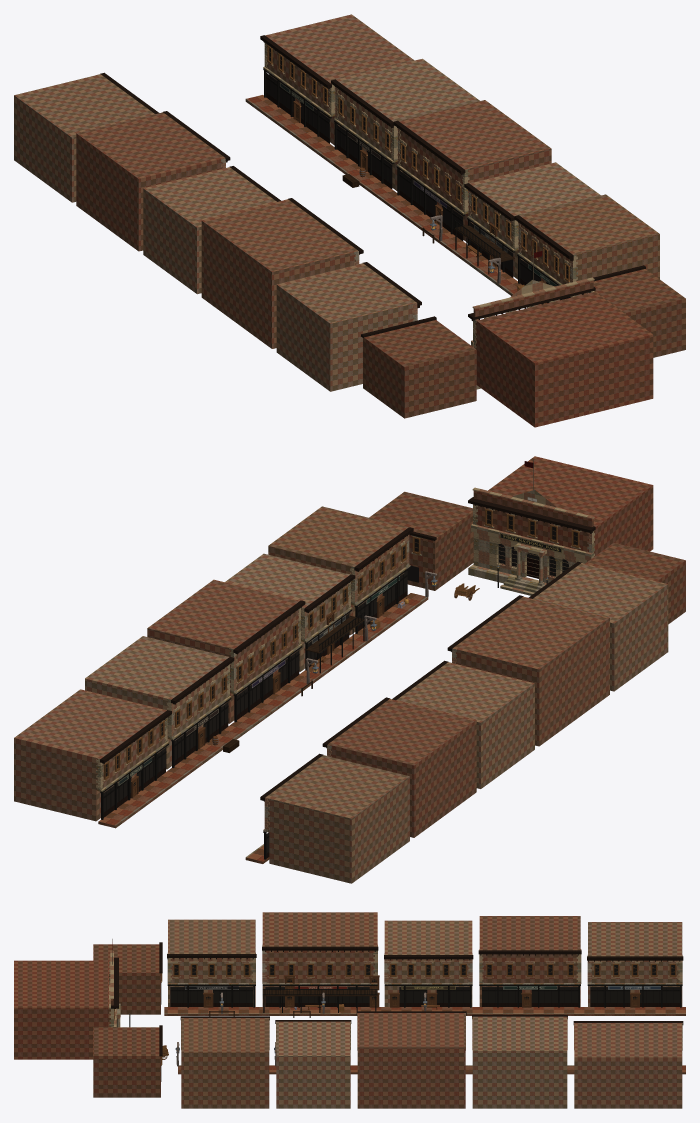
Rendered from bank.glb.
The picture shows the model from 3 angles, top to bottom: view 1: azimuth 30°, elevation 25°; view 2: azimuth 150°, elevation 25°; view 3: azimuth 270°, elevation 25°; orthographic projection. The views are drawn at different scales.
Parts seen in each view (by area): view 1: masonry-3, walls-0, trim-1, kit-5, windows-2, signs-4, kit-6; view 2: masonry-3, trim-1, walls-0, kit-5, windows-2, signs-4, kit-6; view 3: masonry-3, trim-1, windows-2, walls-0, kit-5, kit-6, signs-4.
Part boxes in pixels (x1=…): masonry-3: x1=14, y1=14, x2=685, y2=427; walls-0: x1=100, y1=35, x2=645, y2=337; trim-1: x1=263, y1=68, x2=568, y2=303; kit-5: x1=267, y1=45, x2=569, y2=303; windows-2: x1=266, y1=73, x2=570, y2=299; signs-4: x1=280, y1=82, x2=557, y2=286; kit-6: x1=269, y1=48, x2=568, y2=278; masonry-3: x1=14, y1=456, x2=685, y2=883; trim-1: x1=100, y1=459, x2=567, y2=859; walls-0: x1=100, y1=497, x2=595, y2=801; kit-5: x1=104, y1=508, x2=579, y2=797; windows-2: x1=103, y1=544, x2=568, y2=853; signs-4: x1=118, y1=497, x2=561, y2=785; kit-6: x1=105, y1=511, x2=577, y2=786; masonry-3: x1=14, y1=912, x2=685, y2=1108; trim-1: x1=112, y1=939, x2=682, y2=1055; windows-2: x1=161, y1=983, x2=679, y2=1081; walls-0: x1=111, y1=942, x2=683, y2=1056; kit-5: x1=114, y1=963, x2=676, y2=1064; kit-6: x1=174, y1=965, x2=674, y2=999; signs-4: x1=184, y1=986, x2=660, y2=989.
Bounding box in the file's own units: 46.8 × 16.8 × 99.2.
8 materials, 7 textured.
